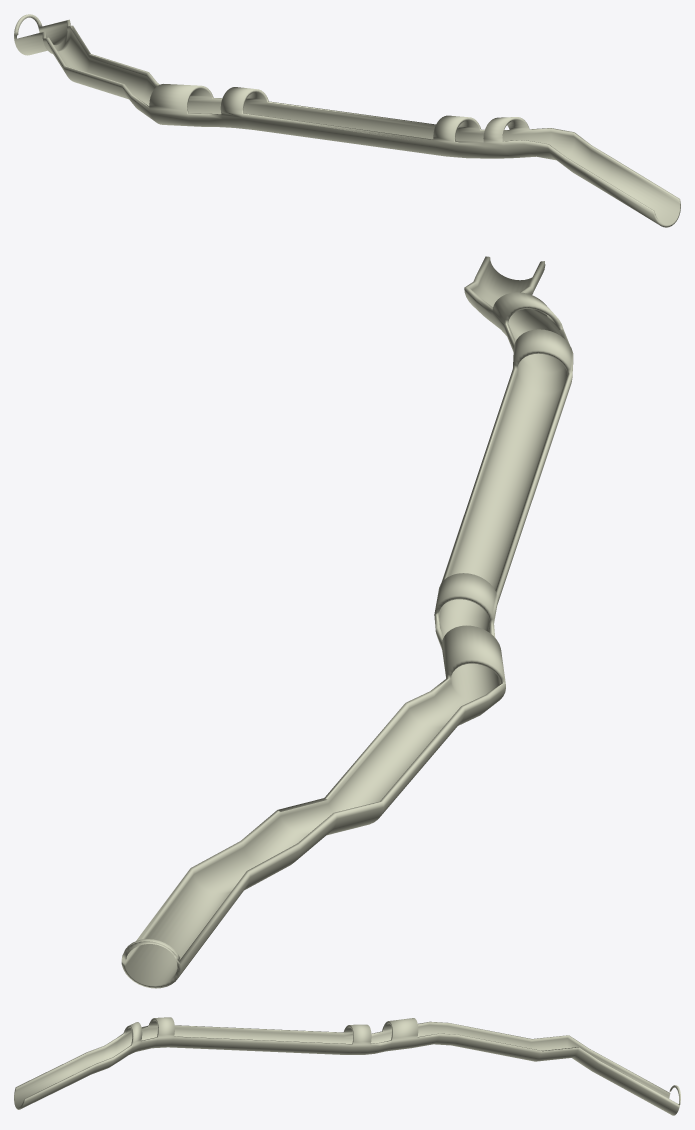
File: pista03.fbx
The picture shows the model from 3 angles, top to bottom: view 1: azimuth 30°, elevation 25°; view 2: azimuth 150°, elevation 25°; view 3: azimuth 270°, elevation 25°; orthographic projection. The views are drawn at different scales.
Parts seen in each view (by area): view 1: Cylinder; view 2: Cylinder; view 3: Cylinder.
Boxes of the visible parts, x1=… form: Cylinder: x1=14, y1=14, x2=680, y2=227; Cylinder: x1=121, y1=256, x2=573, y2=988; Cylinder: x1=14, y1=1017, x2=680, y2=1115.
Size of the model in its own units: 5.2 by 3.14 by 14.68.
